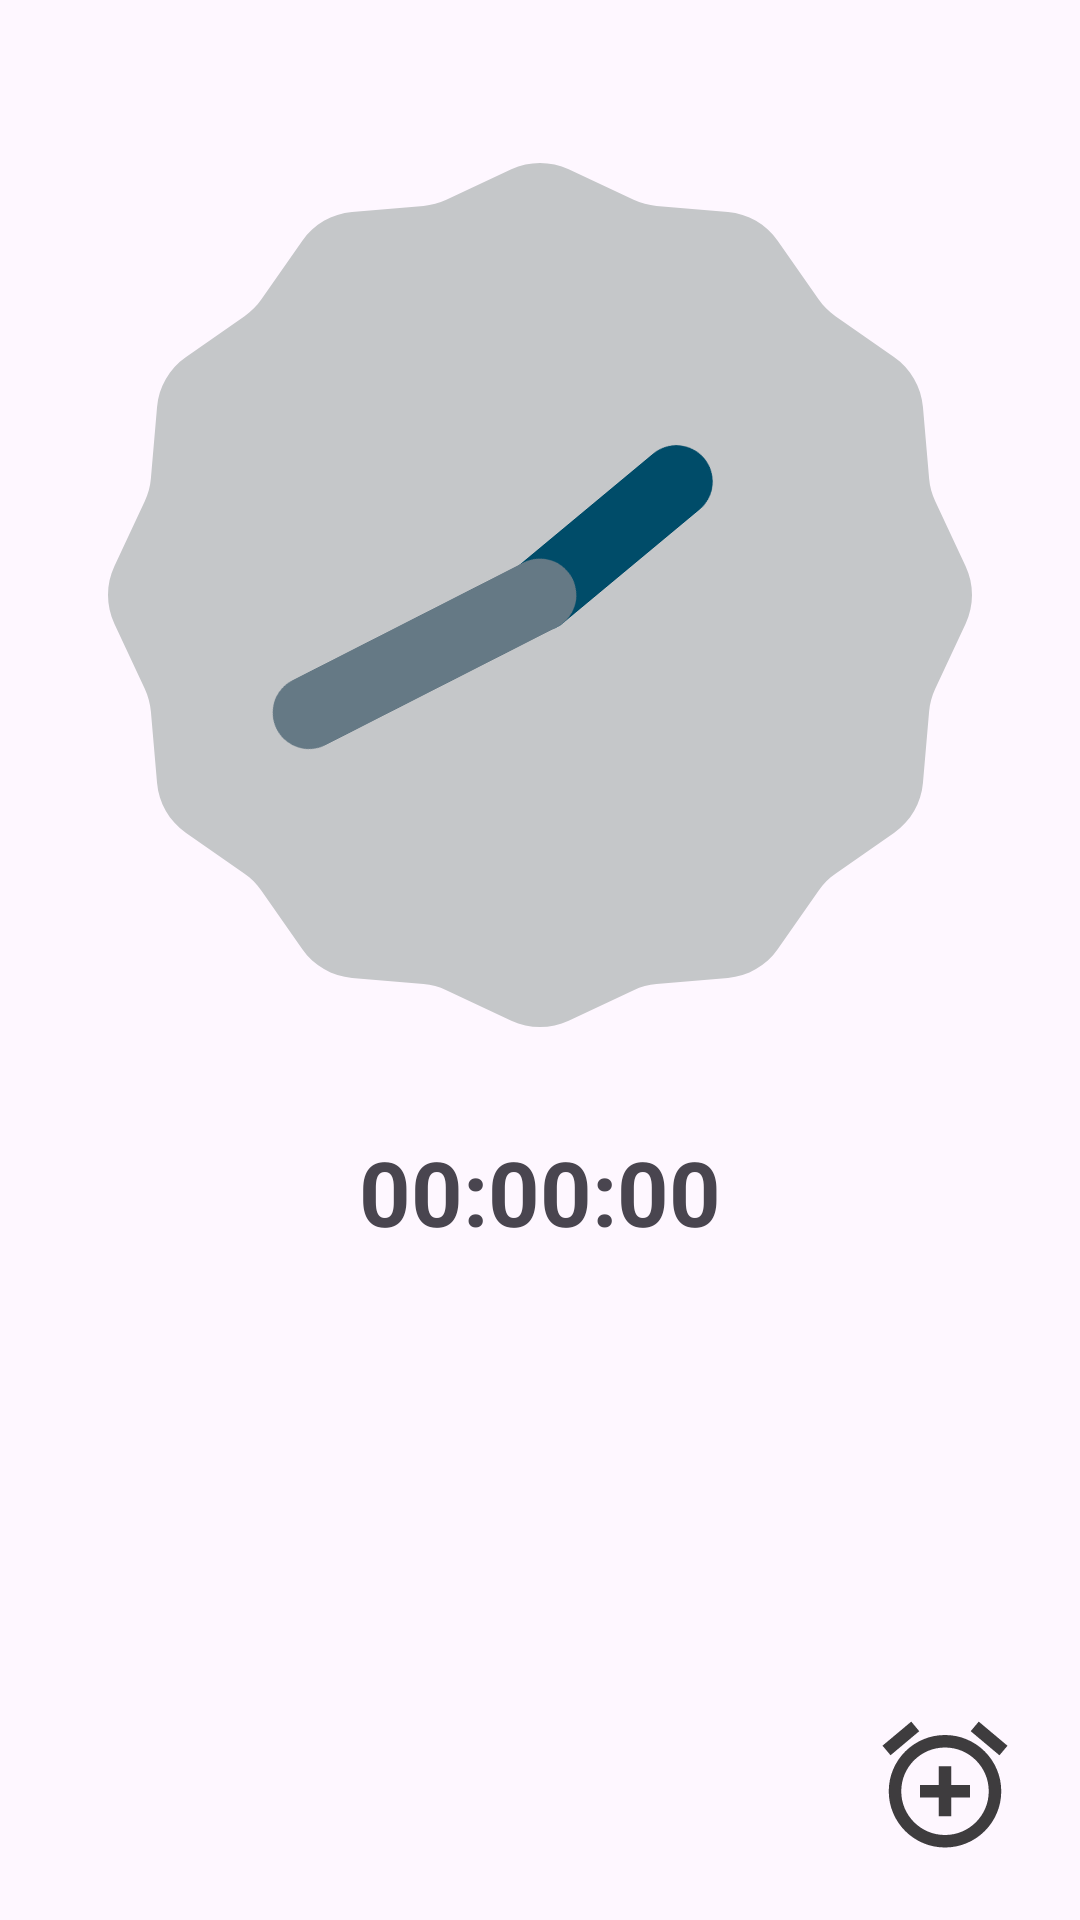

Icons on this 1080*1920 Android screen, each with its box as detection(x1, y1, x2, y2):
add alarm: detection(882, 1721, 1008, 1848)
